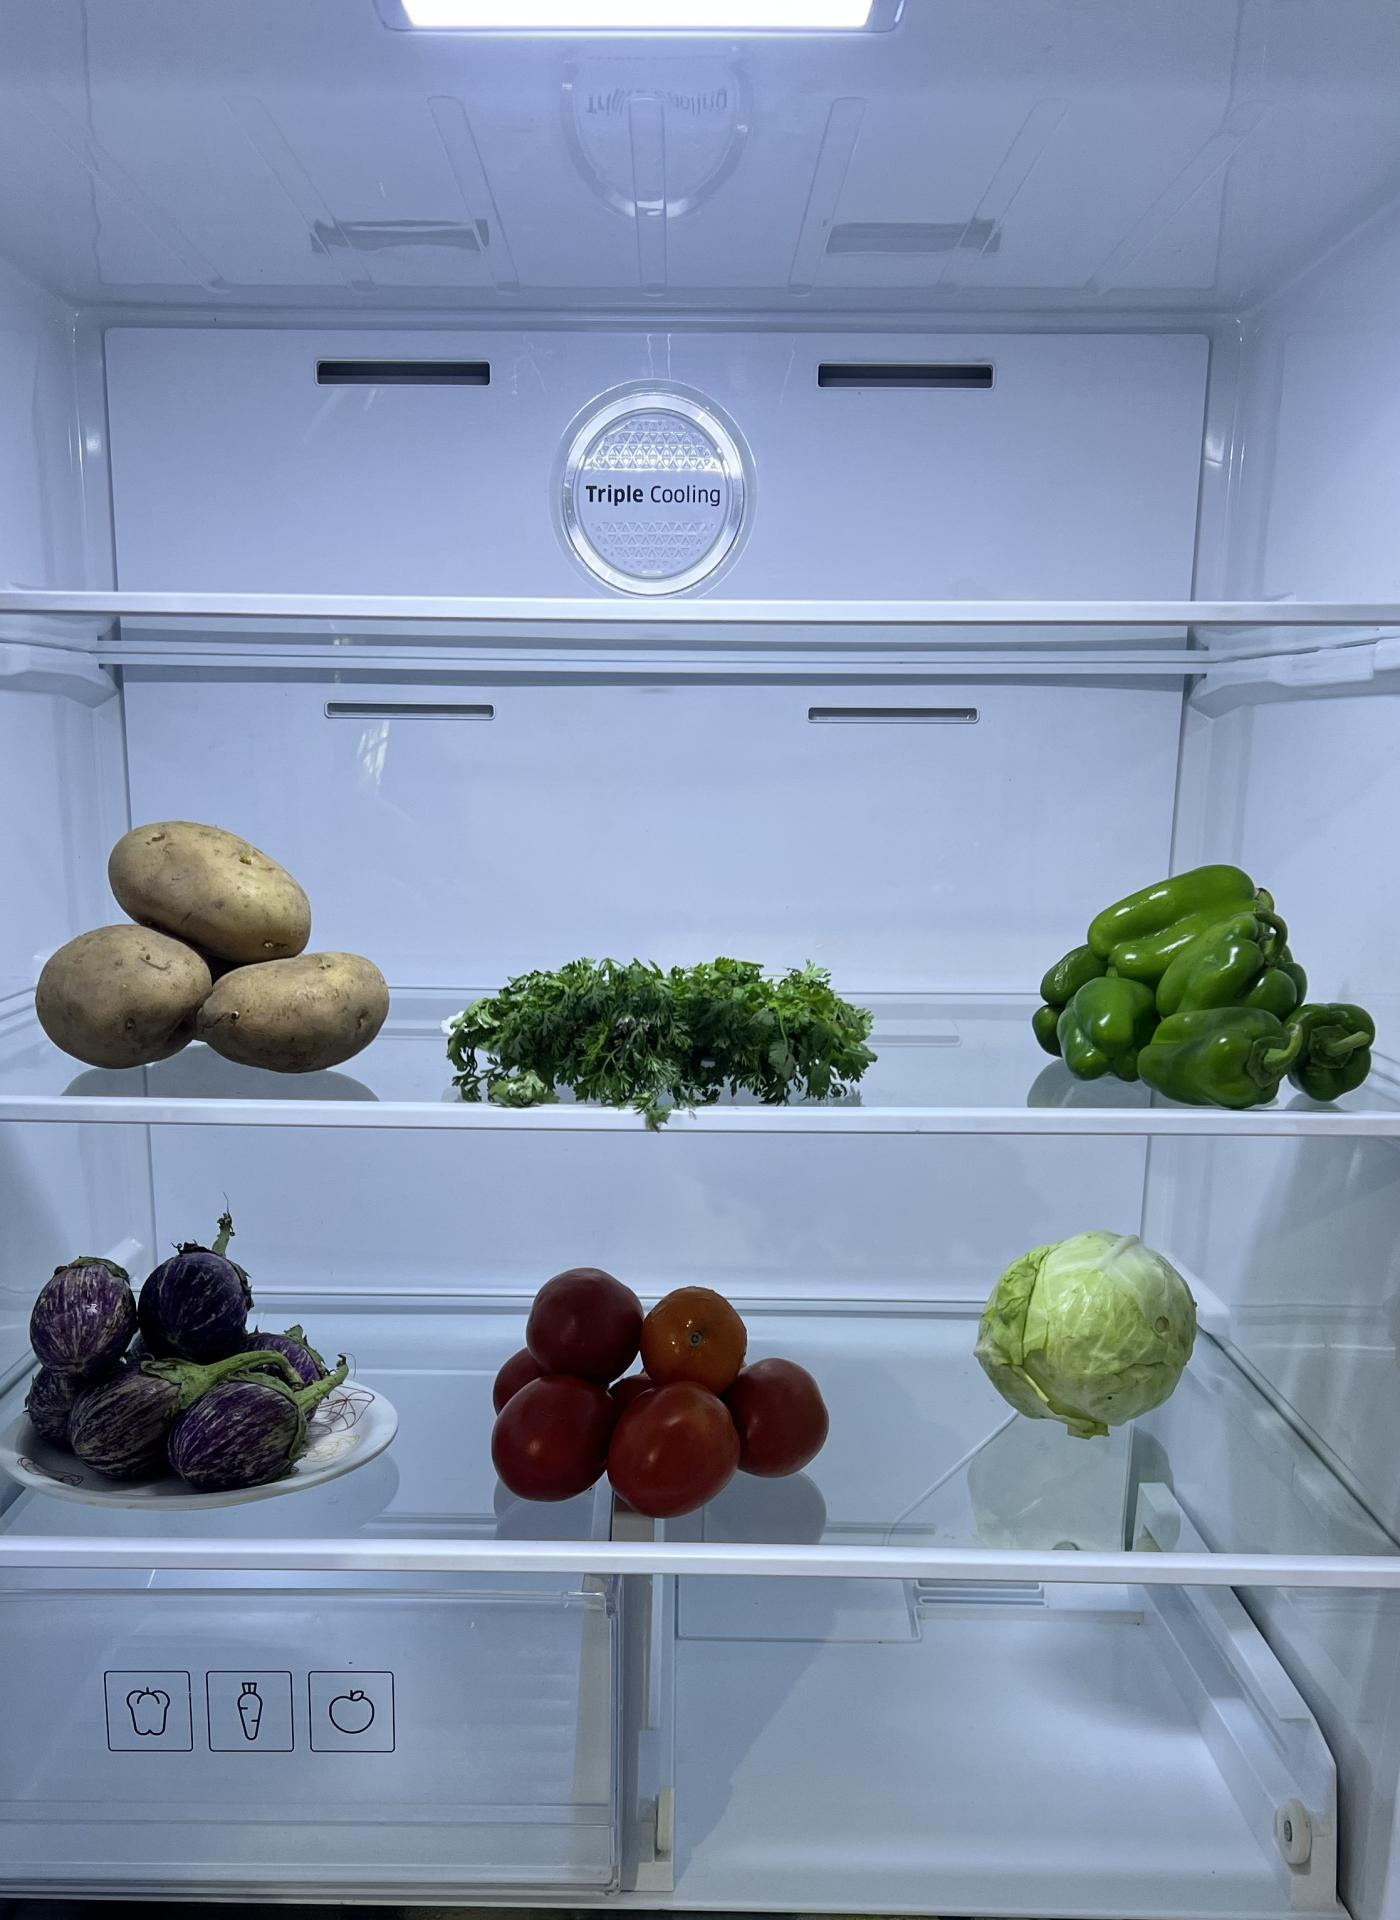cabbage: (972, 1234, 1197, 1421)
capsicum: (1032, 842, 1375, 1103)
coriander: (432, 945, 906, 1114)
potato: (45, 798, 385, 1079)
tomato: (474, 1248, 833, 1518)
